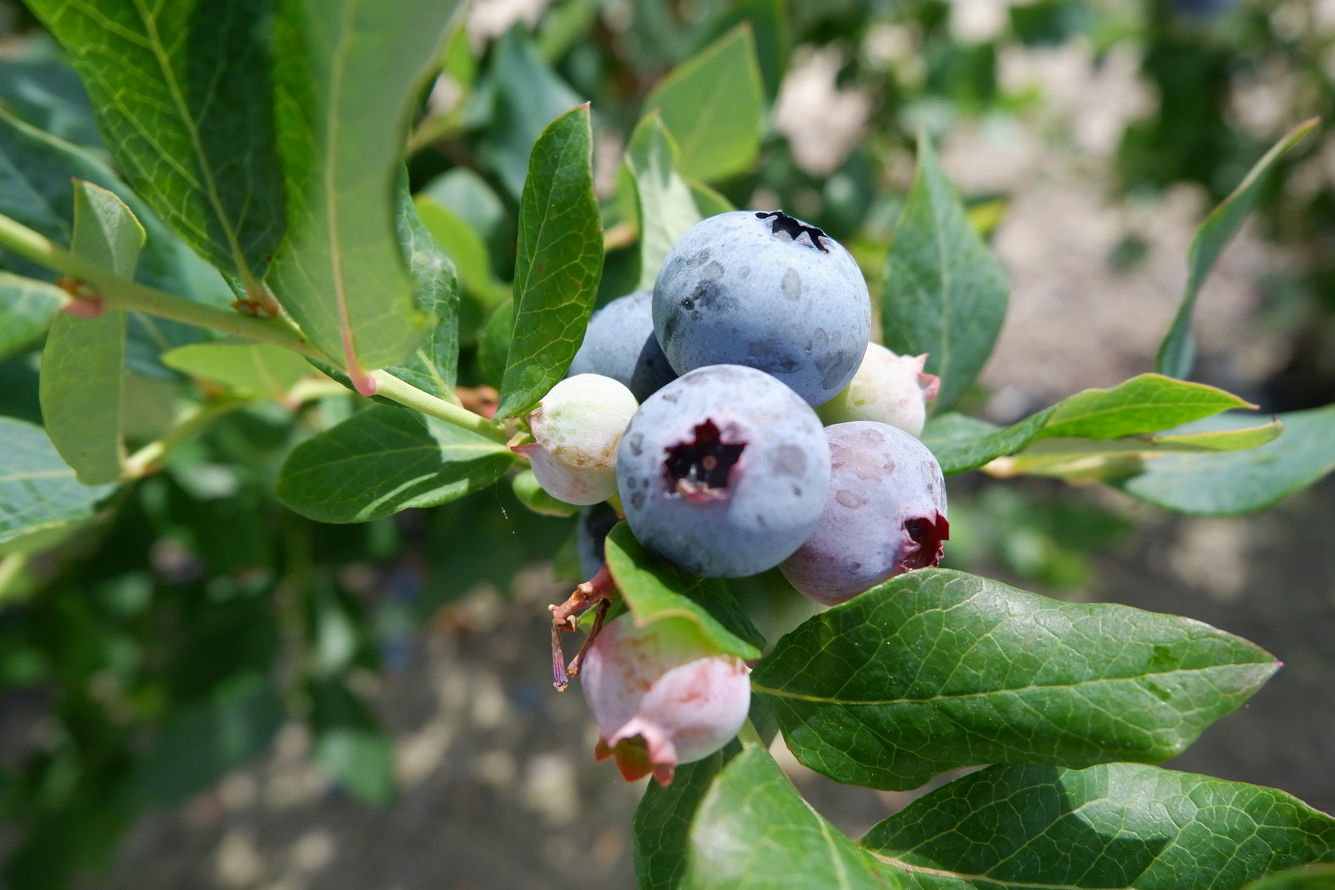Immature: (786, 425, 948, 602), (583, 611, 749, 778), (512, 376, 633, 507), (821, 346, 937, 436)
Mature: (621, 373, 825, 577), (654, 214, 870, 401), (571, 295, 670, 399)
